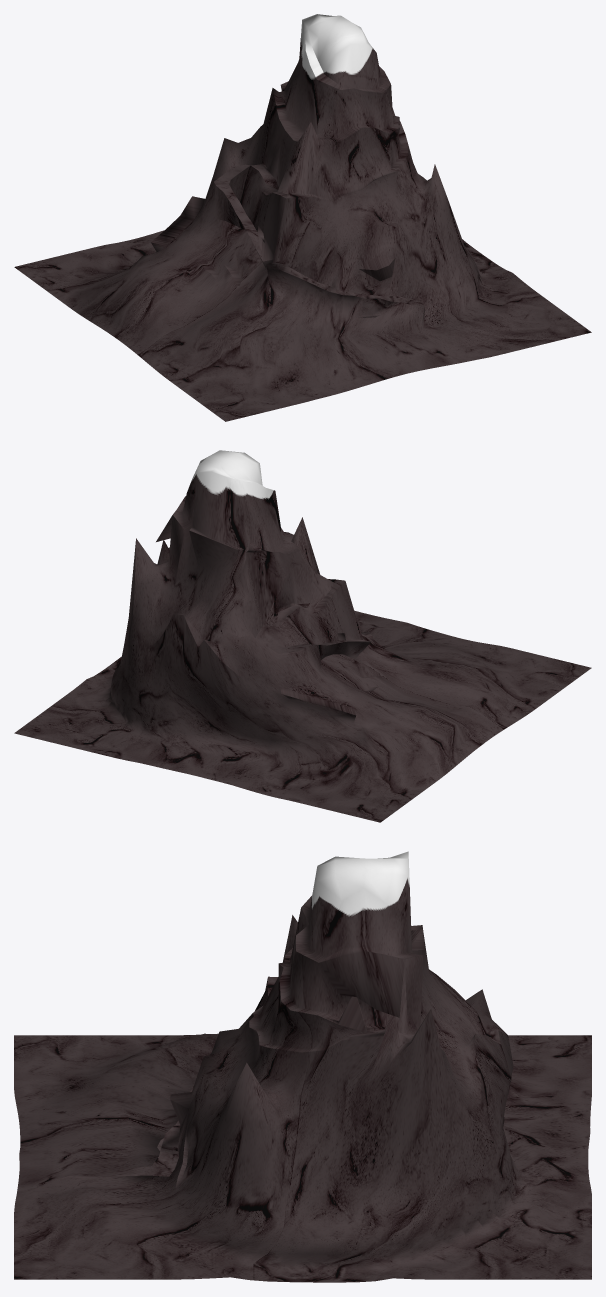
The model's file is HikingMountainShort.glb.
3 views of the same model, one above another, from view 1: azimuth 30°, elevation 25°; view 2: azimuth 150°, elevation 25°; view 3: azimuth 270°, elevation 25° (orthographic). The views are drawn at different scales.
Parts seen in each view (by area): view 1: Plane; view 2: Plane; view 3: Plane.
Boxes of the visible parts, x1=… form: Plane: x1=14, y1=14, x2=591, y2=421; Plane: x1=14, y1=450, x2=591, y2=822; Plane: x1=14, y1=851, x2=591, y2=1282.
Bounding box in the file's own units: 200 × 129 × 200.
Materials: 1 (1 with a texture image).
